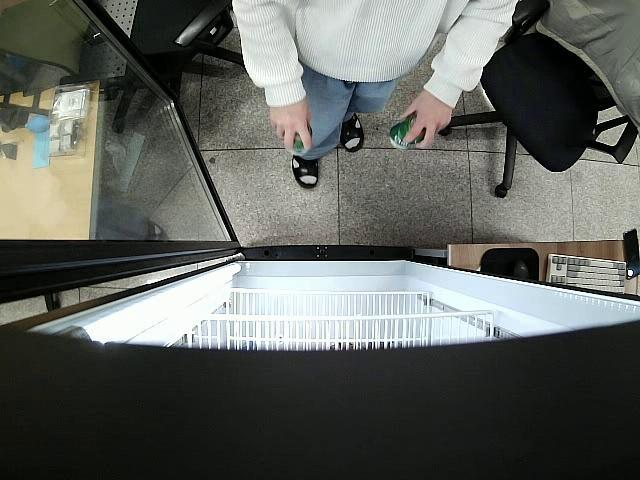12_chilsungCider: (390, 109, 429, 150), (287, 122, 315, 156)
